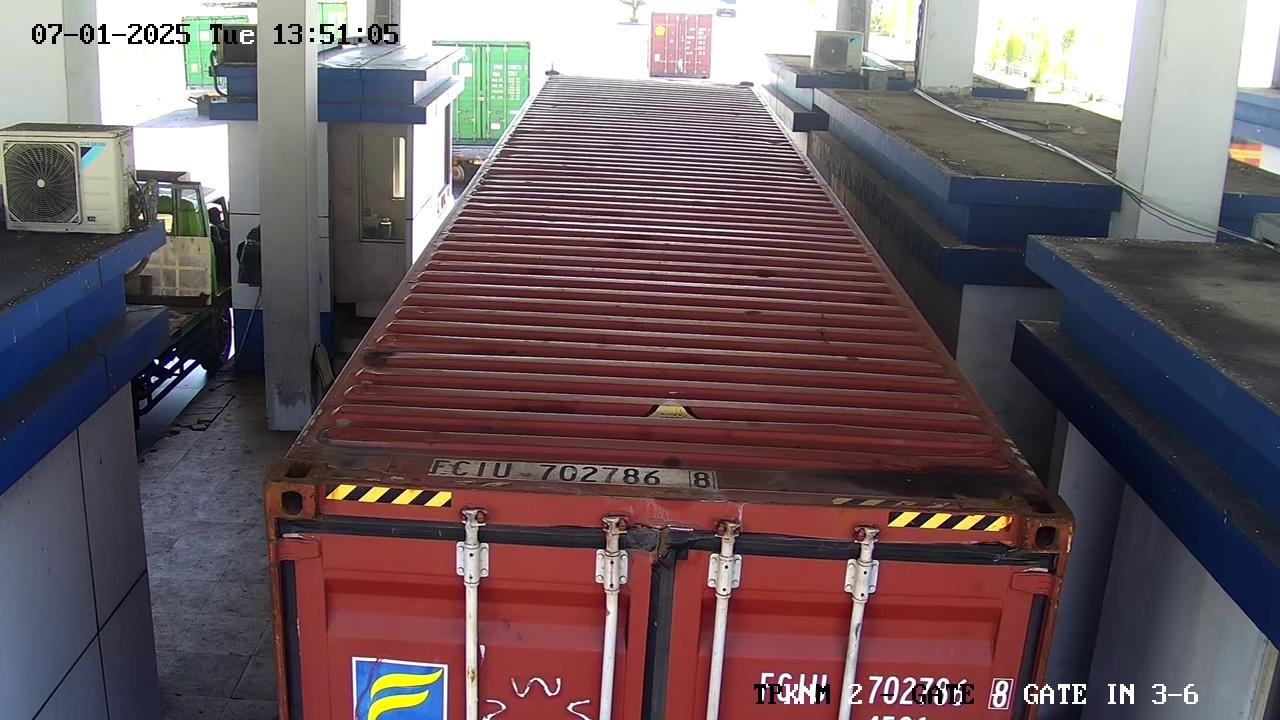Container_ID: (417, 444, 749, 509)
